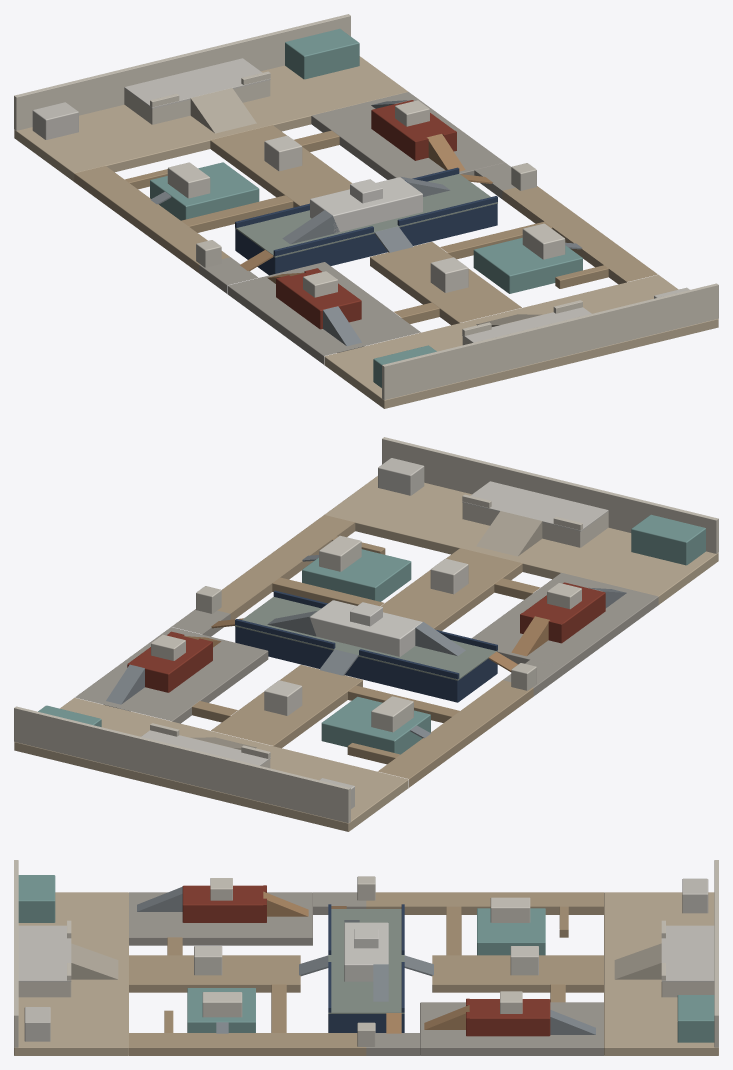
File: halyard_zones_level.glb
3 renders of one model, top to bottom at view 1: azimuth 30°, elevation 25°; view 2: azimuth 150°, elevation 25°; view 3: azimuth 270°, elevation 25°, orthographic. The views are drawn at different scales.
Parts seen in each view (by area): view 1: PaintableStage; view 2: PaintableStage; view 3: PaintableStage.
Part boxes in pixels (left/top/right/bottom): PaintableStage: left=14, top=14, right=718, bottom=408; PaintableStage: left=14, top=437, right=718, bottom=831; PaintableStage: left=14, top=860, right=718, bottom=1055.
Bounding box in the file's own units: 48 × 7.94 × 92.
